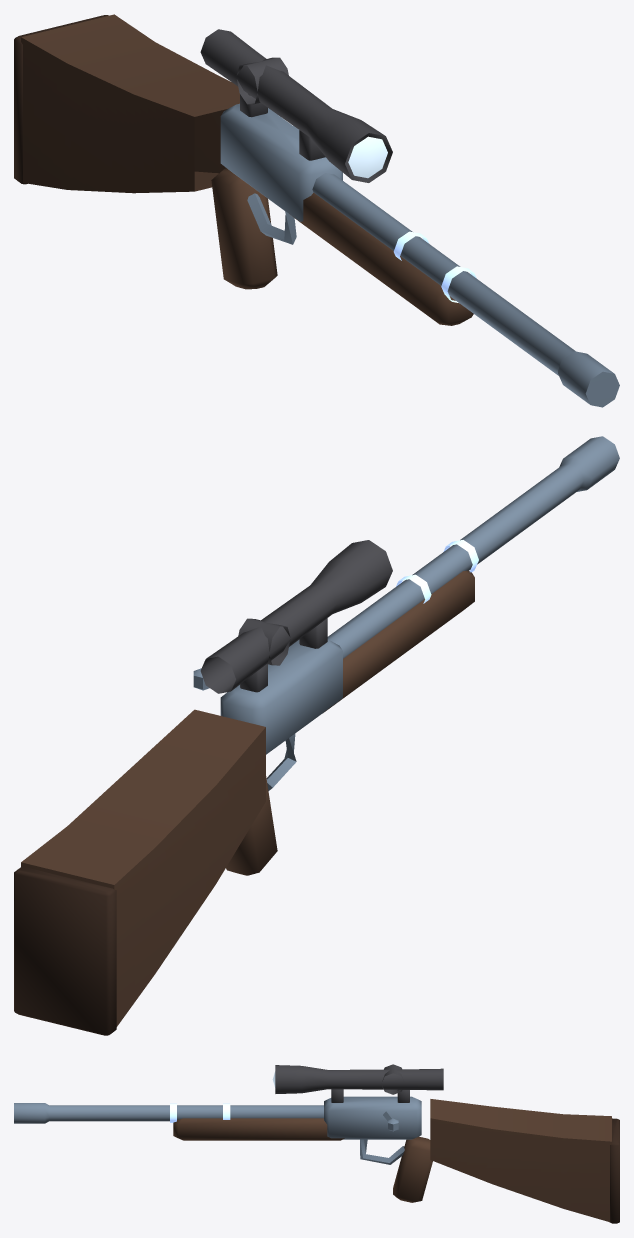
The model's file is rifle-3.glb.
3 renders of one model, top to bottom at view 1: azimuth 30°, elevation 25°; view 2: azimuth 150°, elevation 25°; view 3: azimuth 270°, elevation 25°, orthographic. The views are drawn at different scales.
Visible parts, largest first — view 1: rifle-3; view 2: rifle-3; view 3: rifle-3.
Part boxes in pixels (x1=…): rifle-3: x1=14, y1=14, x2=619, y2=407; rifle-3: x1=14, y1=436, x2=619, y2=1035; rifle-3: x1=14, y1=1064, x2=619, y2=1223.
Bounding box in the file's own units: 0.0859 × 0.1815 × 0.684.
